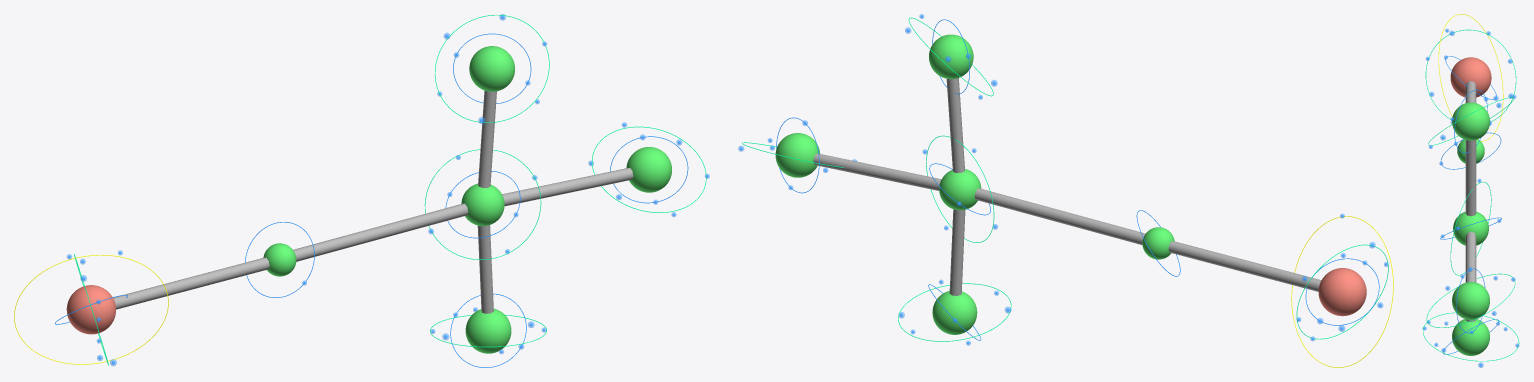
Rendered from NaHCO3.glb.
3 views of the same model, side by side, from view 1: azimuth 30°, elevation 25°; view 2: azimuth 150°, elevation 25°; view 3: azimuth 270°, elevation 25° (orthographic). The views are drawn at different scales.
Parts seen in each view (by area): view 1: O (×3), object 104, object 103, Na, object 106, C, object 107, object 105, H; view 2: O (×3), object 104, object 103, Na, object 106, C, object 107, object 105, H; view 3: O (×3), Na, object 107, C, object 106, H, object 24, object 7, object 103, object 52, object 71, object 37 (+6 smaller).
Boxes of the visible parts, x1,y1,x2,y2 form: O (×3): (465,46,671,353); object 104: (293,203,468,261); object 103: (113,257,269,309); Na: (66,285,115,334); object 106: (502,168,633,206); C: (461,183,504,226); object 107: (478,90,496,187); object 105: (477,225,493,313); H: (263,243,296,276); O (×3): (775,34,977,334); object 104: (974,188,1145,245); object 103: (1168,241,1321,291); Na: (1318,268,1366,316); object 106: (813,153,941,190); C: (939,169,981,210); object 107: (946,78,964,172); object 105: (949,209,965,295); H: (1142,227,1174,259); O (×3): (1452,102,1489,355); Na: (1450,57,1491,97); object 107: (1465,140,1476,216); C: (1453,211,1488,245); object 106: (1465,231,1476,282); H: (1457,139,1484,163); object 24: (1438,14,1503,141); object 7: (1425,29,1516,121); object 103: (1465,81,1476,102); object 52: (1423,312,1519,361); object 71: (1426,273,1515,327); object 37: (1450,181,1491,275).
Size of the model in its own units: 23.97 by 11.04 by 3.61.
